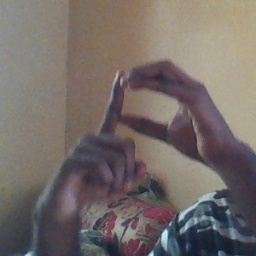P: (71, 58, 205, 194)
